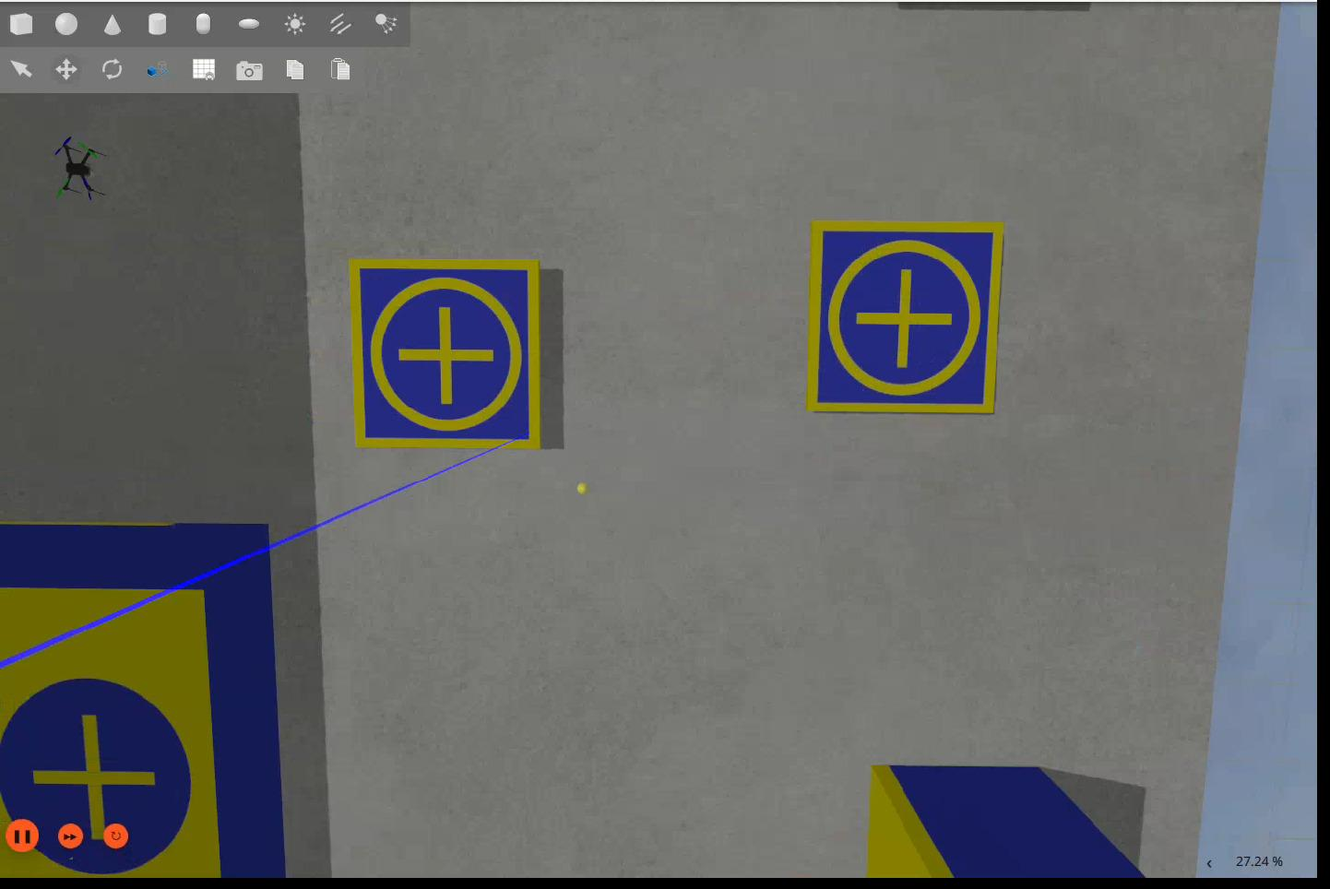large_base: (1, 519, 280, 889)
small_base: (804, 216, 1006, 421), (344, 254, 547, 455)
